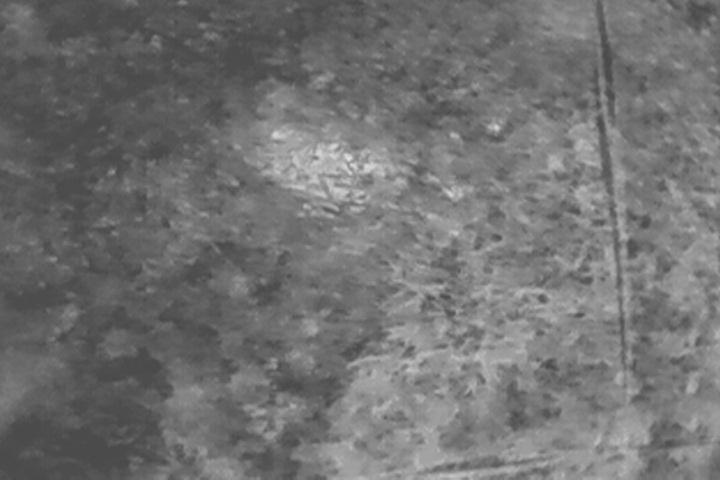landmine: (258, 117, 393, 222)
